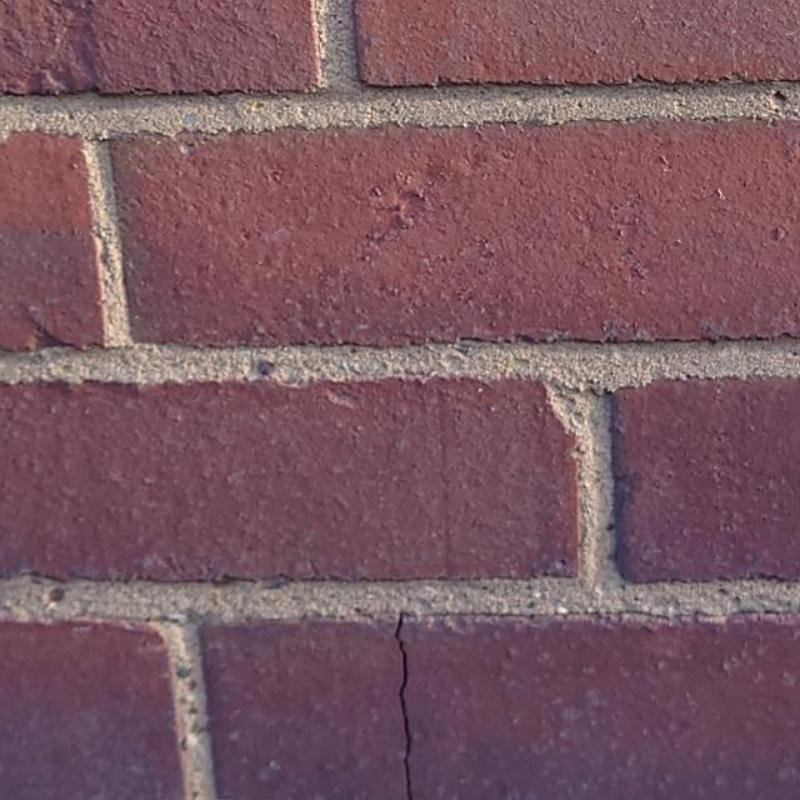crack: (394, 614, 412, 800)
